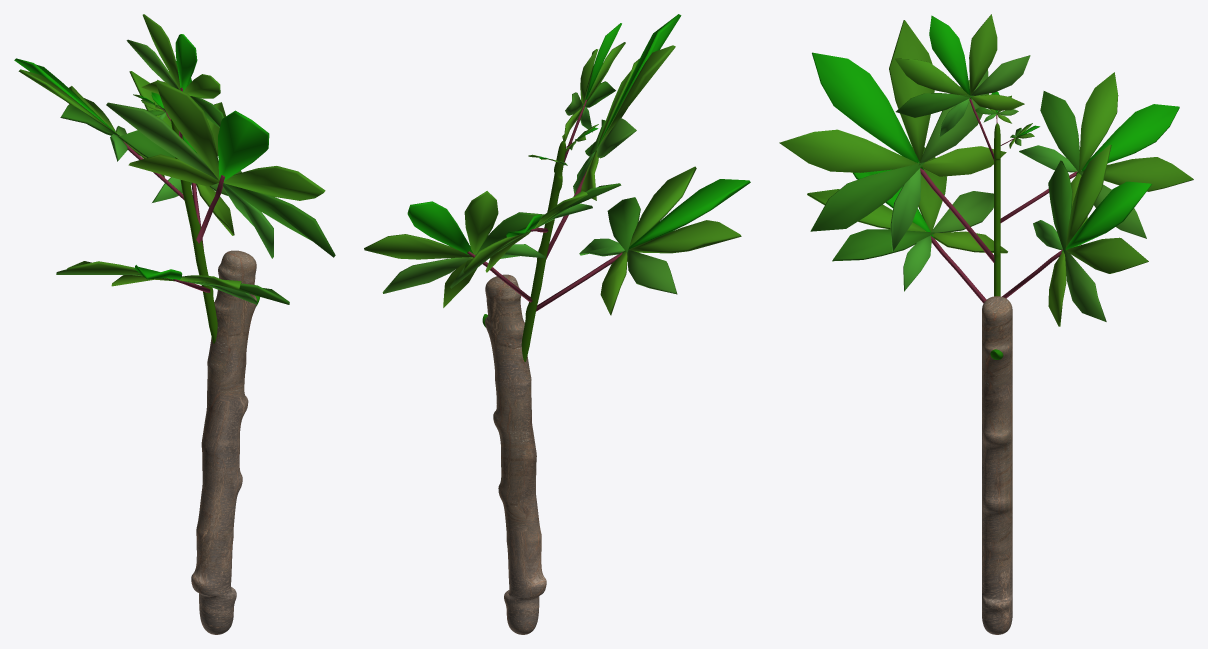
The model's file is casava_3.glb.
The picture shows the model from 3 angles, left to right: view 1: azimuth 30°, elevation 25°; view 2: azimuth 150°, elevation 25°; view 3: azimuth 270°, elevation 25°; orthographic projection. The views are drawn at different scales.
Visible parts, largest first — view 1: Plane, Plane.026, Plane.027, Plane.028, Plane.031, Plane.029, Plane.001, Plane.032, Plane.030, Plane.043, Plane.042, Plane.047 (+9 smaller); view 2: Plane, Plane.010, Plane.011, Plane.001, Plane.002, Plane.003, Plane.012, Plane.015, Plane.004, Plane.007, Plane.013, Plane.027 (+7 smaller); view 3: Plane, Plane.026, Plane.028, Plane.029, Plane.027, Plane.034, Plane.002, Plane.036, Plane.035, Plane.013, Plane.003, Plane.037 (+22 smaller).
Part boxes in pixels (x1=…): Plane: x1=191, y1=250, x2=256, y2=634; Plane.026: x1=218, y1=110, x2=269, y2=180; Plane.027: x1=155, y1=80, x2=219, y2=180; Plane.028: x1=223, y1=166, x2=325, y2=200; Plane.031: x1=106, y1=102, x2=218, y2=179; Plane.029: x1=214, y1=178, x2=335, y2=257; Plane.001: x1=171, y1=119, x2=217, y2=343; Plane.032: x1=128, y1=154, x2=219, y2=186; Plane.030: x1=222, y1=183, x2=273, y2=258; Plane.043: x1=142, y1=14, x2=180, y2=90; Plane.042: x1=175, y1=34, x2=197, y2=91; Plane.047: x1=126, y1=39, x2=179, y2=89; Plane: x1=485, y1=274, x2=546, y2=634; Plane.010: x1=622, y1=179, x2=750, y2=253; Plane.011: x1=629, y1=220, x2=741, y2=253; Plane.001: x1=521, y1=141, x2=565, y2=361; Plane.002: x1=407, y1=201, x2=473, y2=254; Plane.003: x1=364, y1=234, x2=471, y2=259; Plane.012: x1=625, y1=166, x2=696, y2=251; Plane.015: x1=627, y1=249, x2=677, y2=294; Plane.004: x1=464, y1=191, x2=498, y2=254; Plane.007: x1=382, y1=257, x2=472, y2=293; Plane.013: x1=607, y1=197, x2=640, y2=252; Plane.027: x1=598, y1=45, x2=675, y2=146; Plane: x1=982, y1=296, x2=1012, y2=634; Plane.026: x1=812, y1=52, x2=923, y2=169; Plane.028: x1=779, y1=129, x2=923, y2=172; Plane.029: x1=810, y1=162, x2=925, y2=231; Plane.027: x1=889, y1=20, x2=934, y2=161; Plane.034: x1=1076, y1=104, x2=1179, y2=174; Plane.002: x1=1061, y1=181, x2=1151, y2=252; Plane.036: x1=1078, y1=72, x2=1118, y2=174; Plane.035: x1=1082, y1=157, x2=1193, y2=191; Plane.013: x1=832, y1=229, x2=935, y2=261; Plane.003: x1=1066, y1=237, x2=1148, y2=273; Plane.037: x1=1040, y1=91, x2=1081, y2=175.
Size of the model in its own units: 3.63 by 7.88 by 5.05.
Materials: 11 (1 with a texture image).
